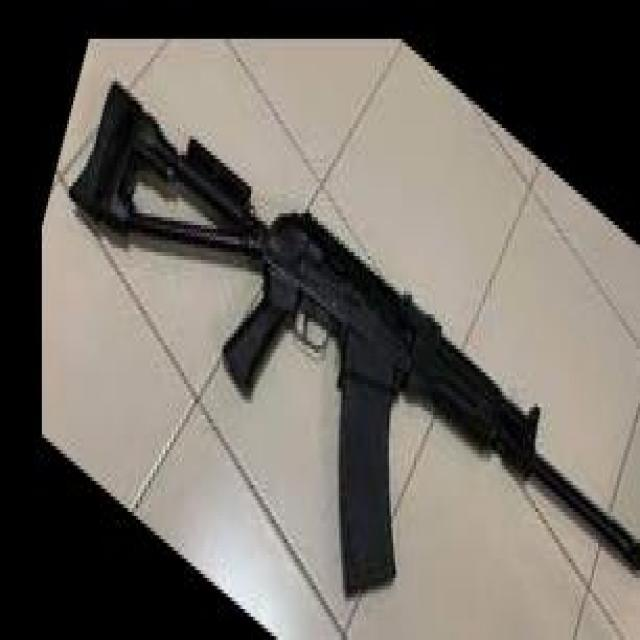weapon: (68, 78, 640, 602)
